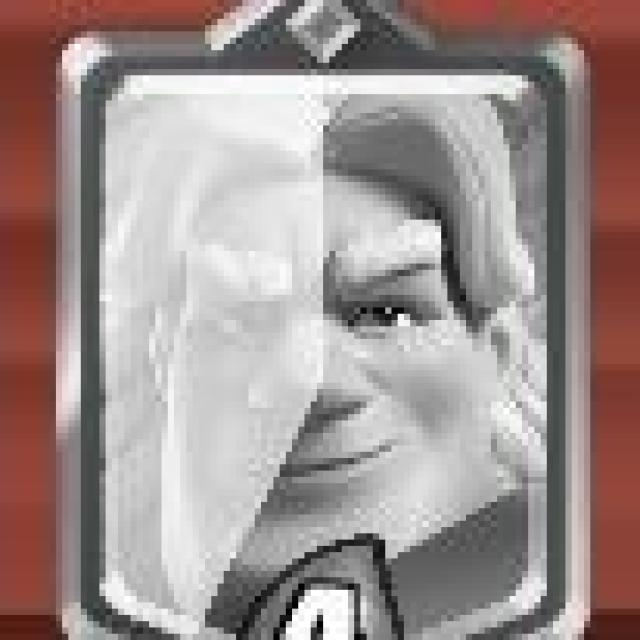Golden_Knight: (56, 29, 588, 640)
